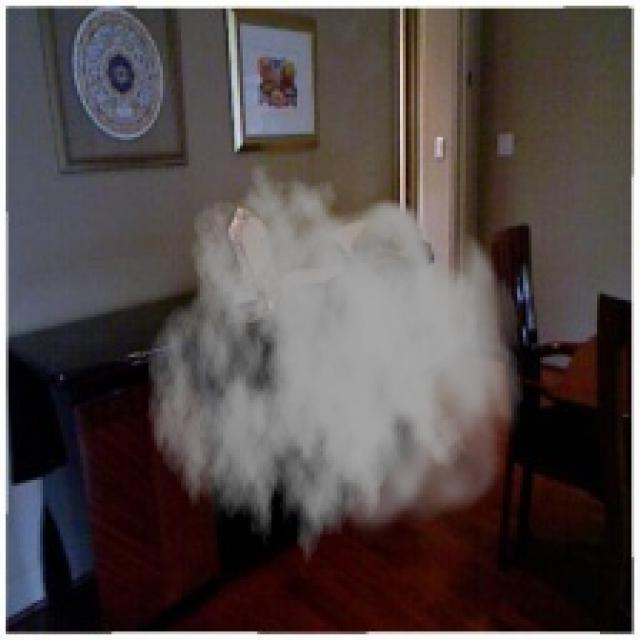Smoke: (146, 163, 523, 583)
